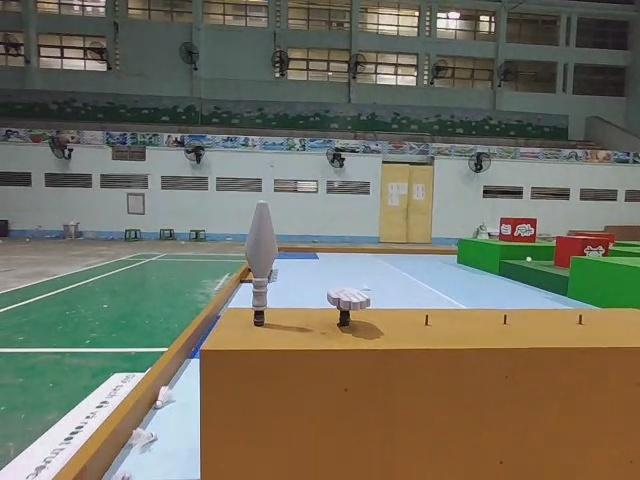Hand: (324, 288, 375, 329)
Sph: (245, 198, 281, 329)
